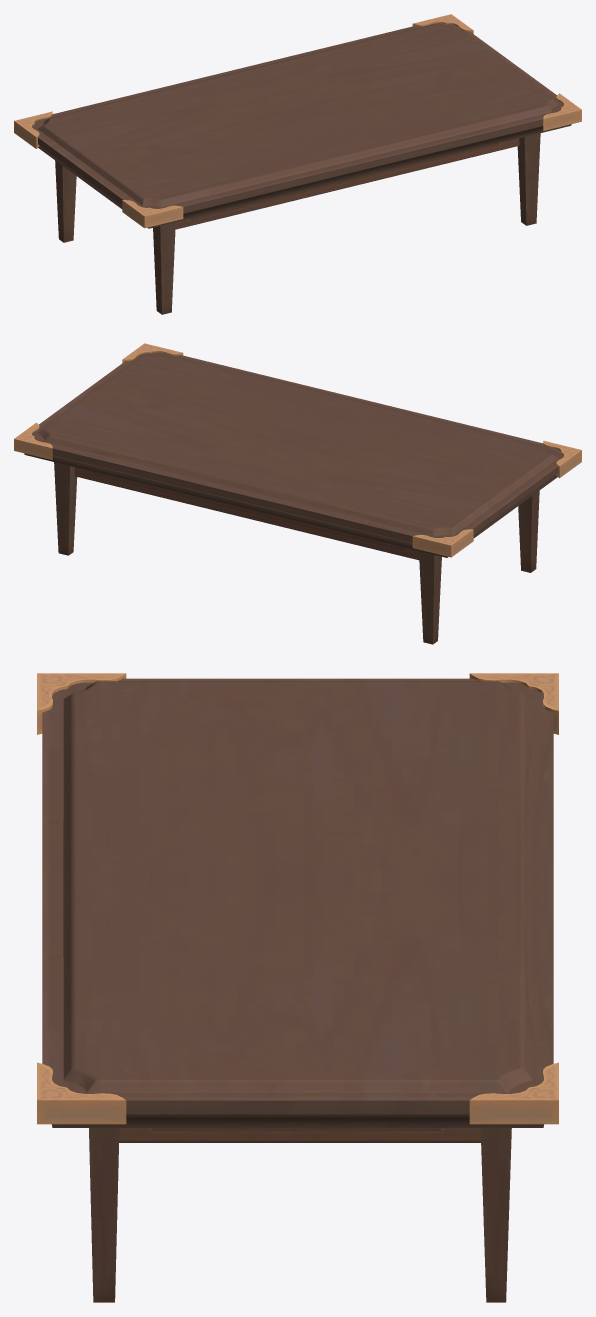
Rendered from Homeworld_Interior_Md_Table_Table_05_Vo.fbx.
3 views of the same model, one above another, from view 1: azimuth 30°, elevation 25°; view 2: azimuth 150°, elevation 25°; view 3: azimuth 270°, elevation 25° (orthographic). The views are drawn at different scales.
Visible parts, largest first — view 1: Indoor_MdProps_Knightoffice_Table01_Vo; view 2: Indoor_MdProps_Knightoffice_Table01_Vo; view 3: Indoor_MdProps_Knightoffice_Table01_Vo.
Boxes of the visible parts, x1=… form: Indoor_MdProps_Knightoffice_Table01_Vo: x1=14, y1=14, x2=581, y2=314; Indoor_MdProps_Knightoffice_Table01_Vo: x1=14, y1=343, x2=581, y2=644; Indoor_MdProps_Knightoffice_Table01_Vo: x1=37, y1=673, x2=558, y2=1302.
Bounding box in the file's own units: 2.95 × 0.7697 × 1.53.
